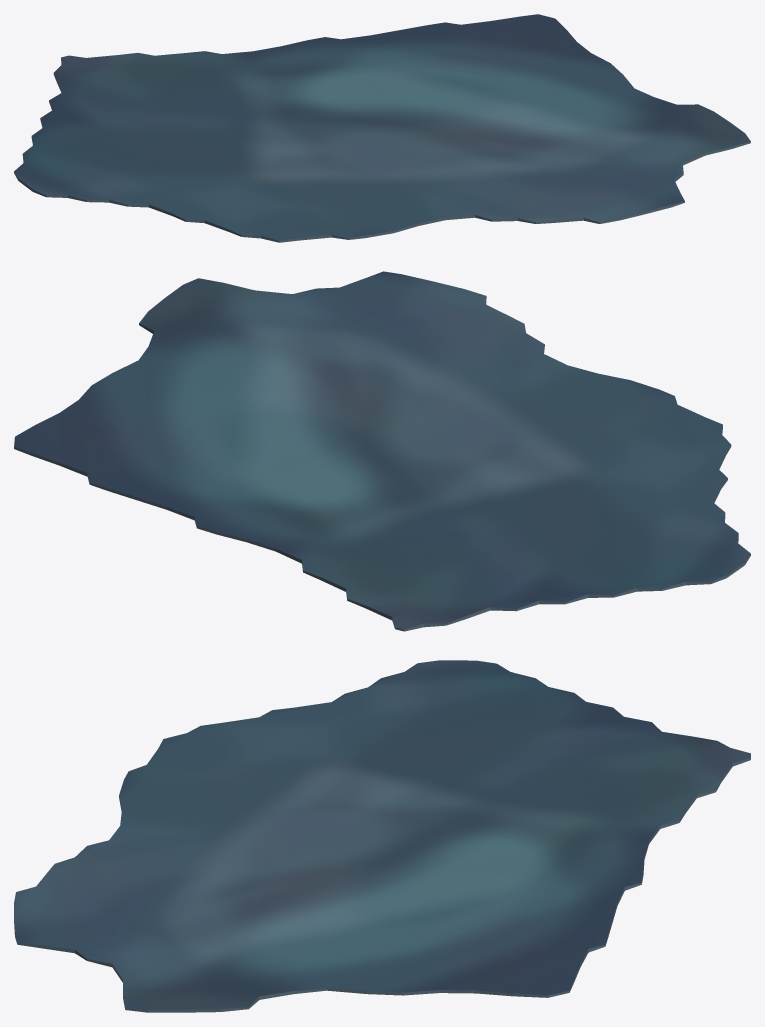
Rendered from PuddleB.fbx.
3 views of the same model, one above another, from view 1: azimuth 30°, elevation 25°; view 2: azimuth 150°, elevation 25°; view 3: azimuth 270°, elevation 25° (orthographic). The views are drawn at different scales.
Visible parts, largest first — view 1: PuddleB; view 2: PuddleB; view 3: PuddleB.
Boxes of the visible parts, bbox=[...] form: PuddleB: bbox=[14, 14, 750, 242]; PuddleB: bbox=[14, 271, 750, 631]; PuddleB: bbox=[14, 660, 750, 1012].
Size of the model in its own units: 125 by 111 by 0.6122.
